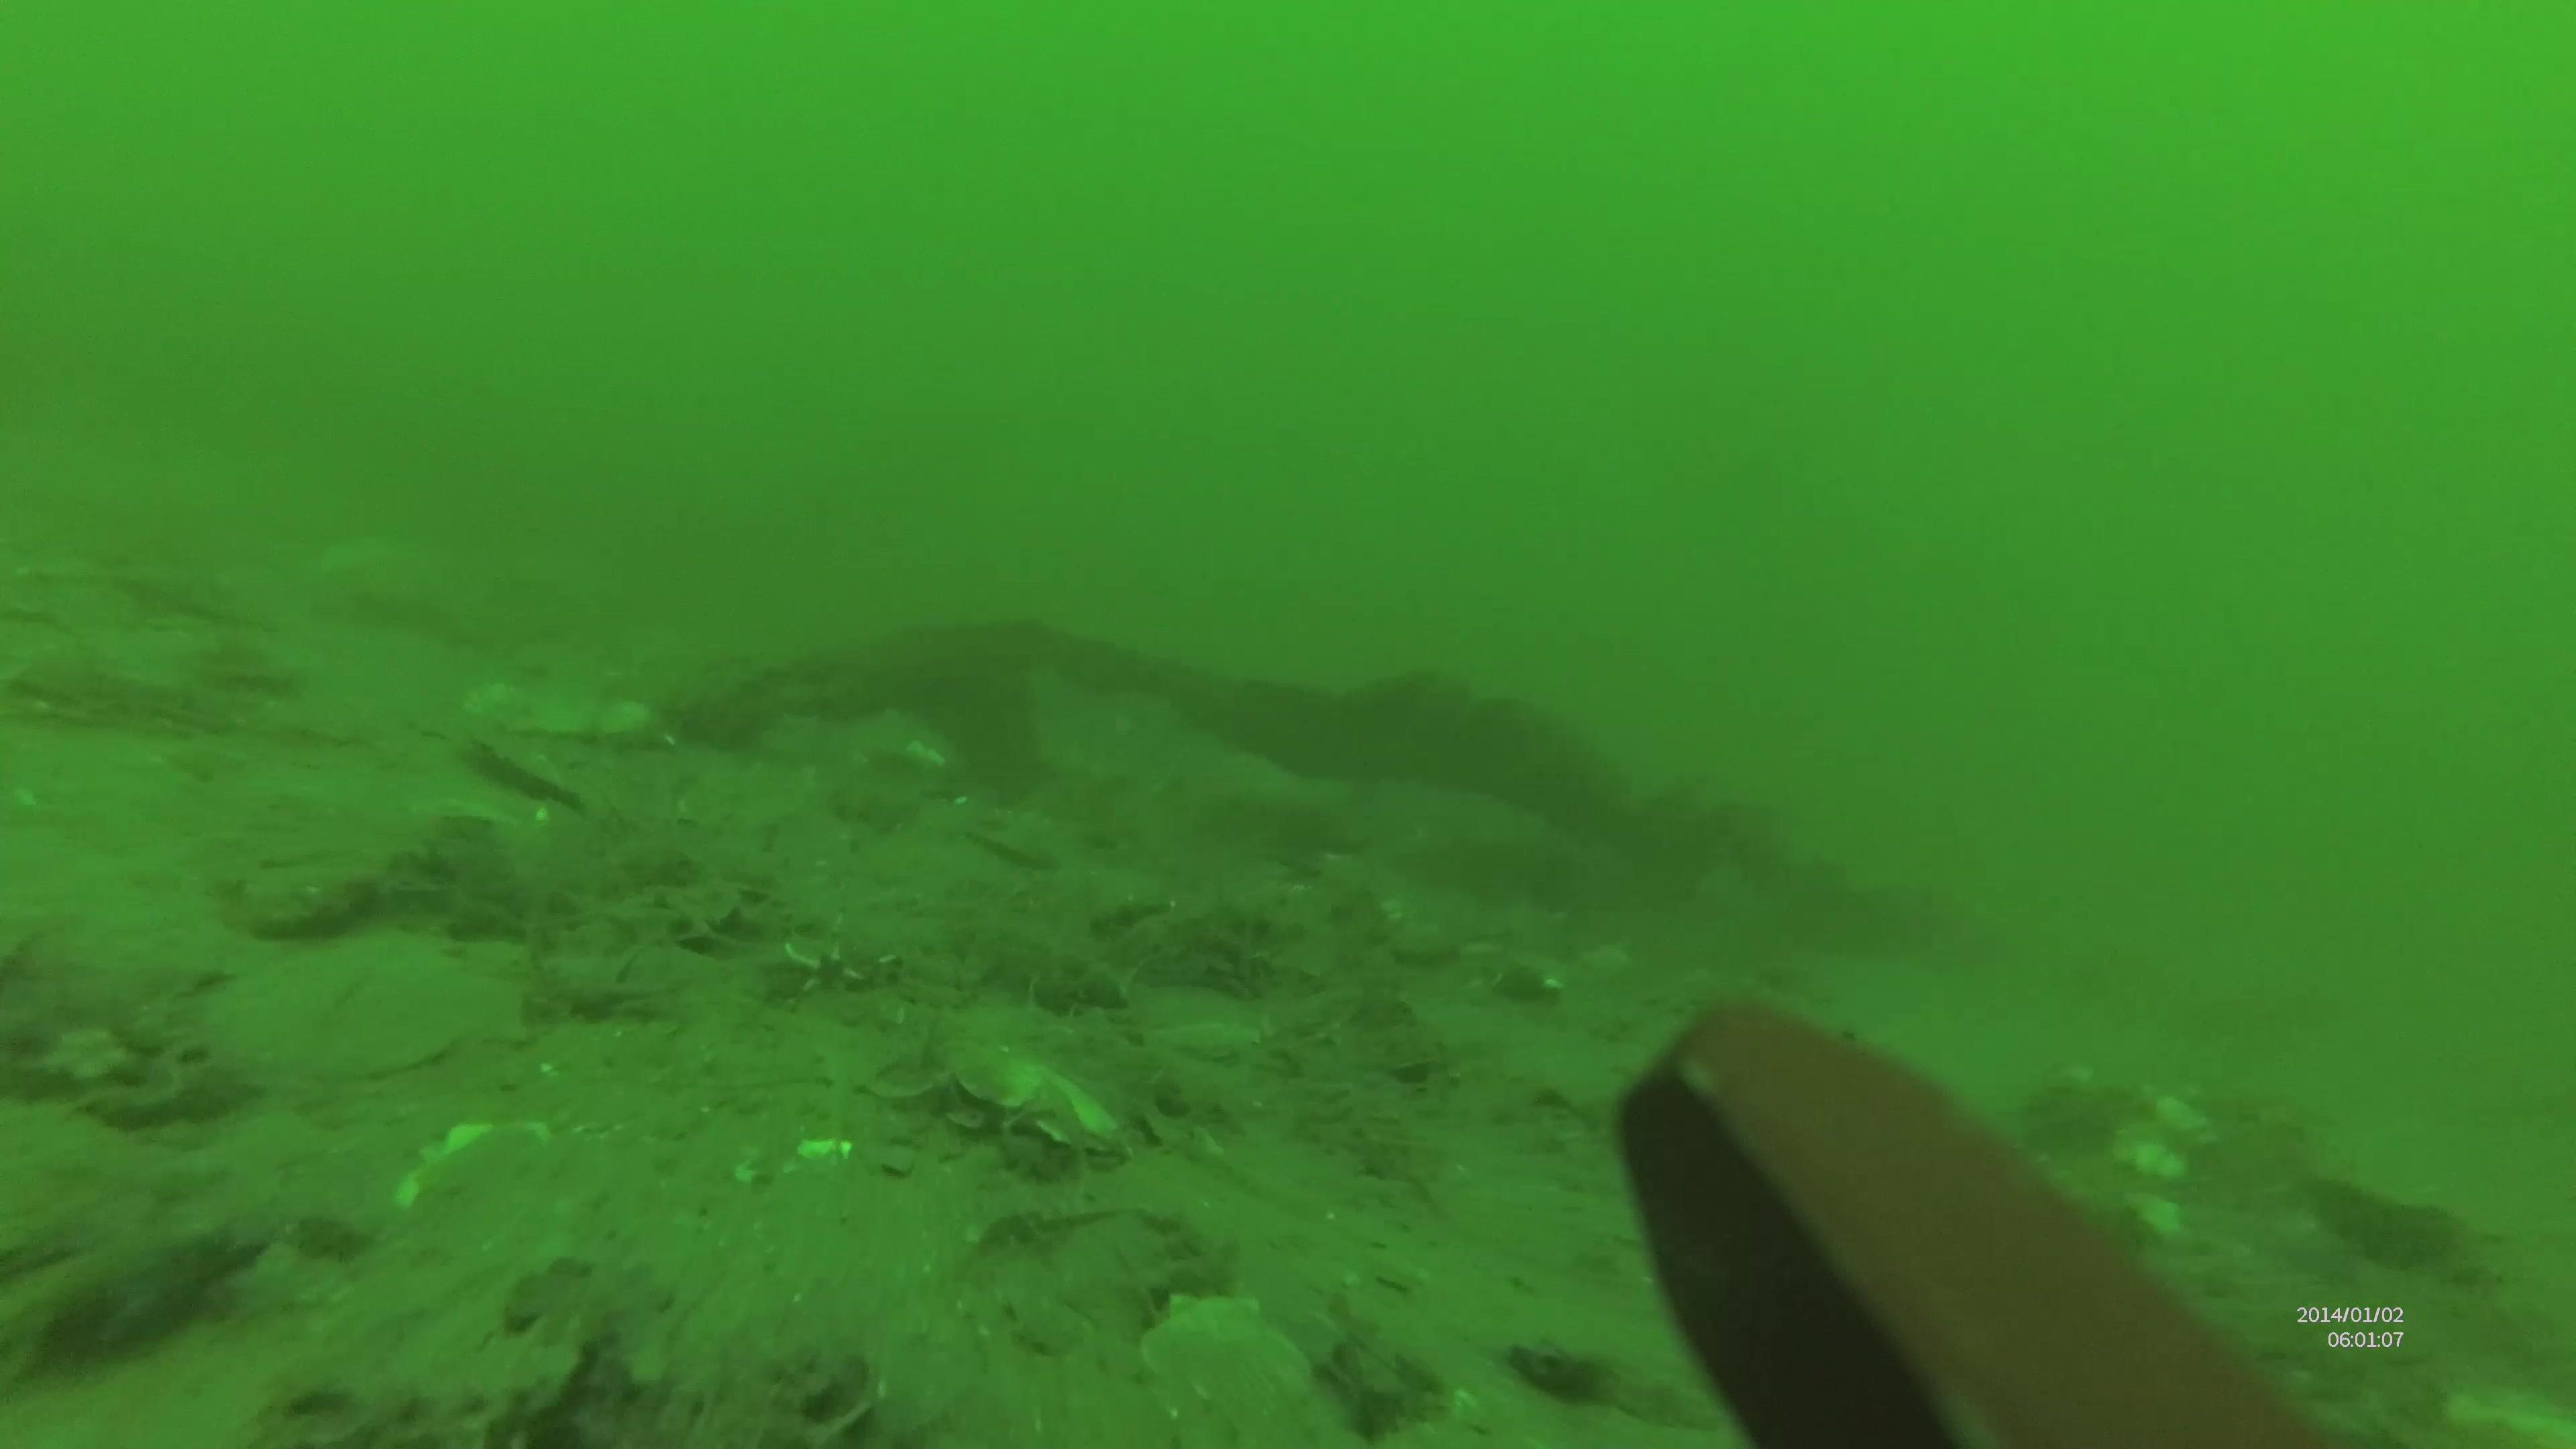scallop: (1132, 1290, 1318, 1445), (941, 1039, 1125, 1157)
